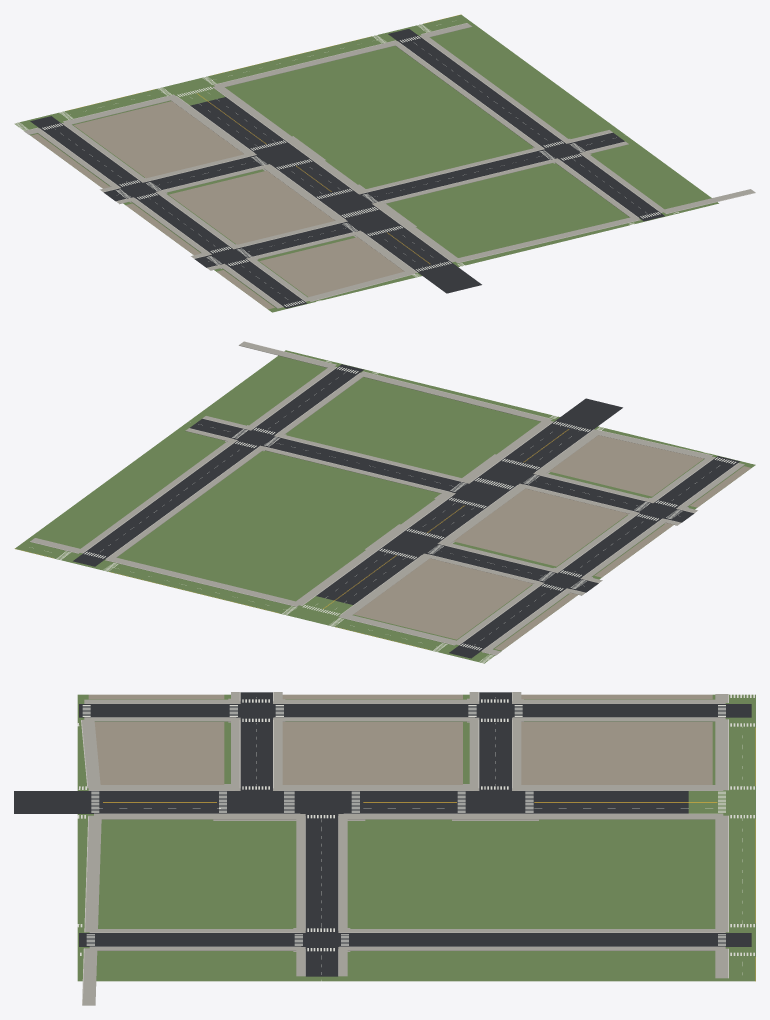
File: Ground_5_3.fbx
The picture shows the model from 3 angles, top to bottom: view 1: azimuth 30°, elevation 25°; view 2: azimuth 150°, elevation 25°; view 3: azimuth 270°, elevation 25°; orthographic projection. The views are drawn at different scales.
Parts seen in each view (by area): view 1: Ground_5_3; view 2: Ground_5_3; view 3: Ground_5_3.
Part boxes in pixels (bbox=[...]): Ground_5_3: bbox=[14, 14, 755, 312]; Ground_5_3: bbox=[14, 341, 755, 663]; Ground_5_3: bbox=[14, 692, 755, 1005].
Size of the model in its own units: 273 by 0.14 by 274.
